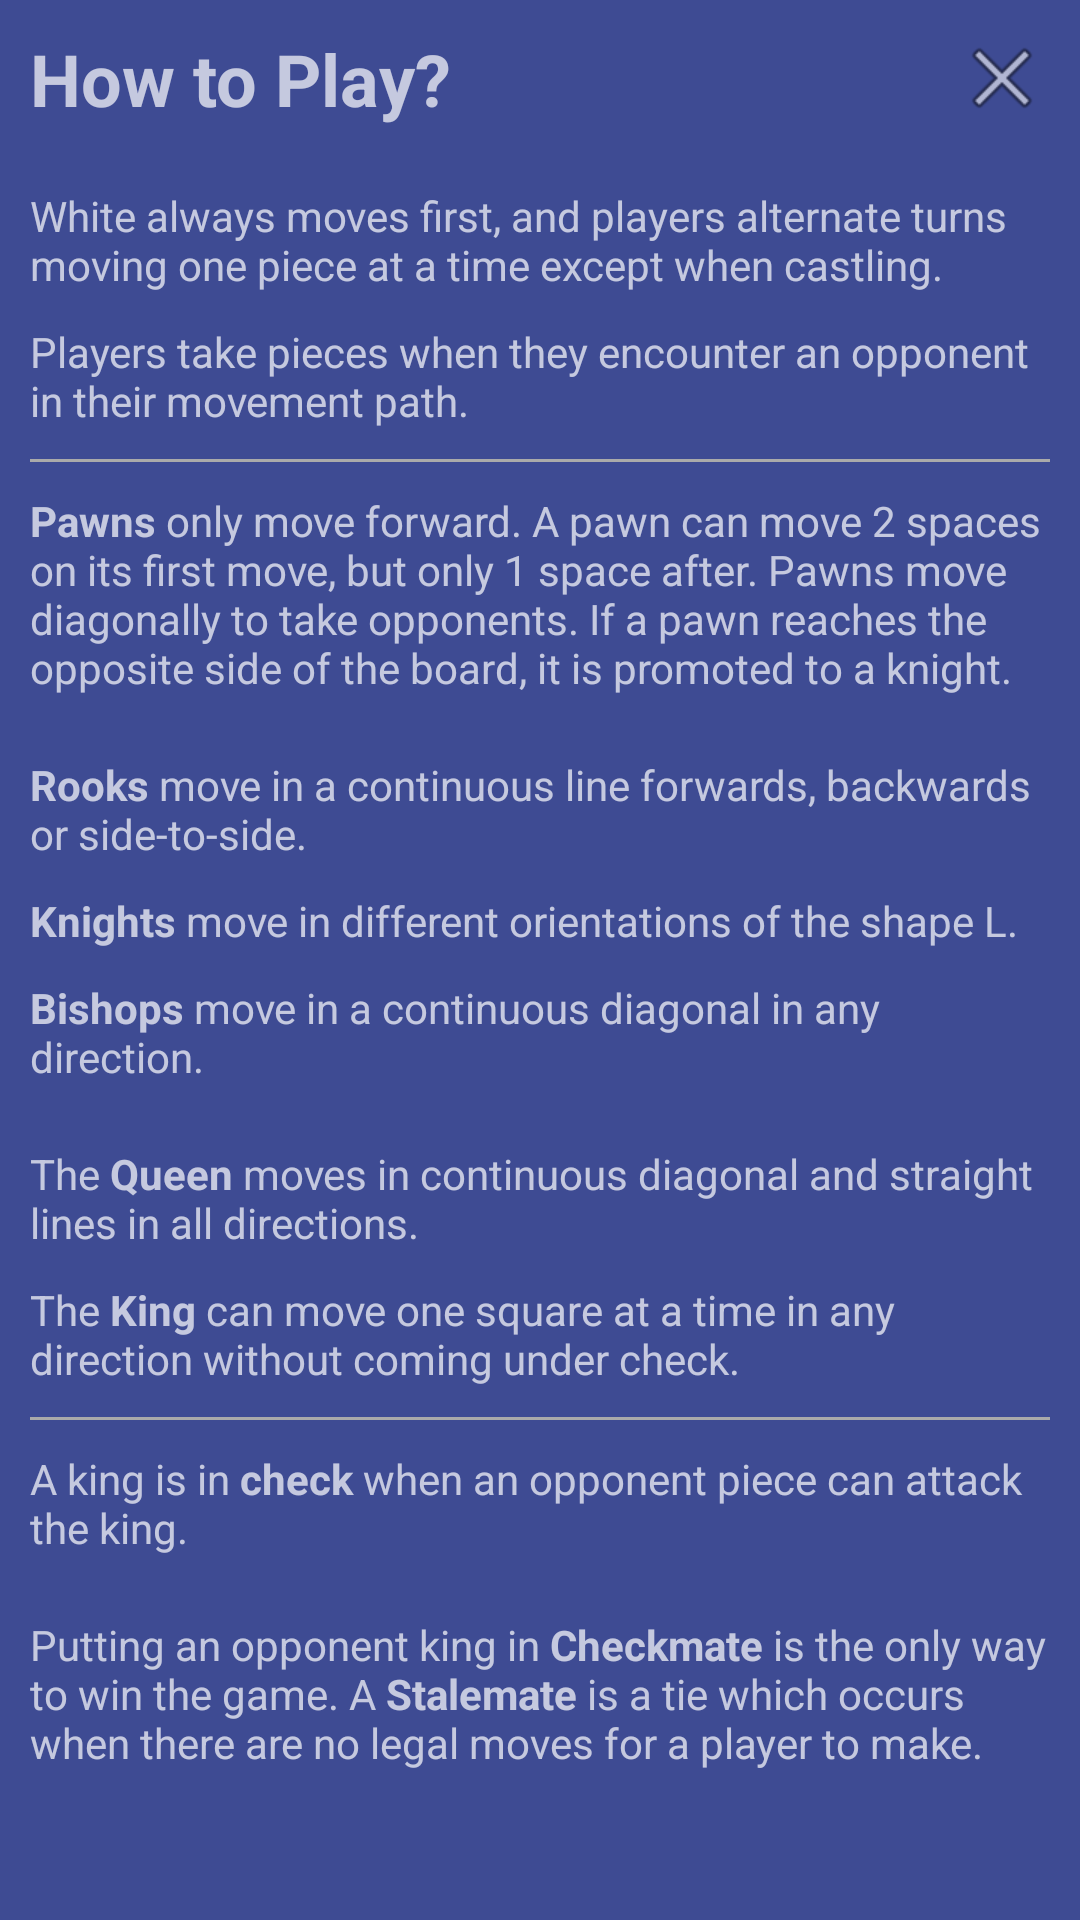

Where to tap for icons on this 1080x1920 app screen, as (x=x, y=y):
close clear cancel: (x=1002, y=78)
